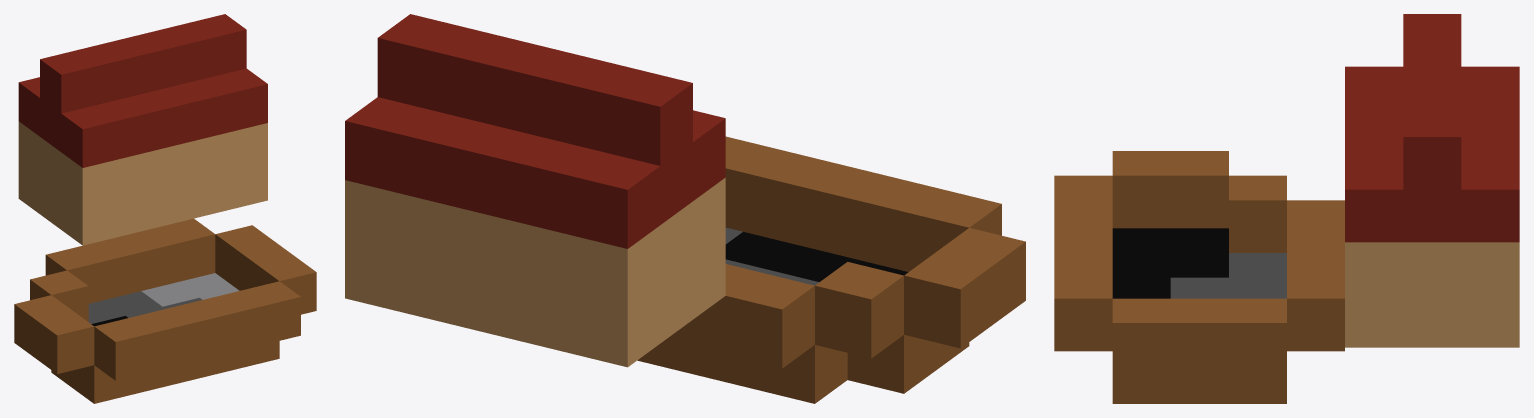
The model's file is mine.glb.
The picture shows the model from 3 angles, left to right: view 1: azimuth 30°, elevation 25°; view 2: azimuth 150°, elevation 25°; view 3: azimuth 270°, elevation 25°; orthographic projection. The views are drawn at different scales.
Visible parts, largest first — view 1: mine; view 2: mine; view 3: mine.
Boxes of the visible parts, x1=… form: mine: x1=14, y1=14, x2=316, y2=403; mine: x1=345, y1=14, x2=1025, y2=403; mine: x1=1054, y1=14, x2=1519, y2=403.
Size of the model in its own units: 0.375 by 0.2812 by 0.375.
Materials: 1 (1 with a texture image).
